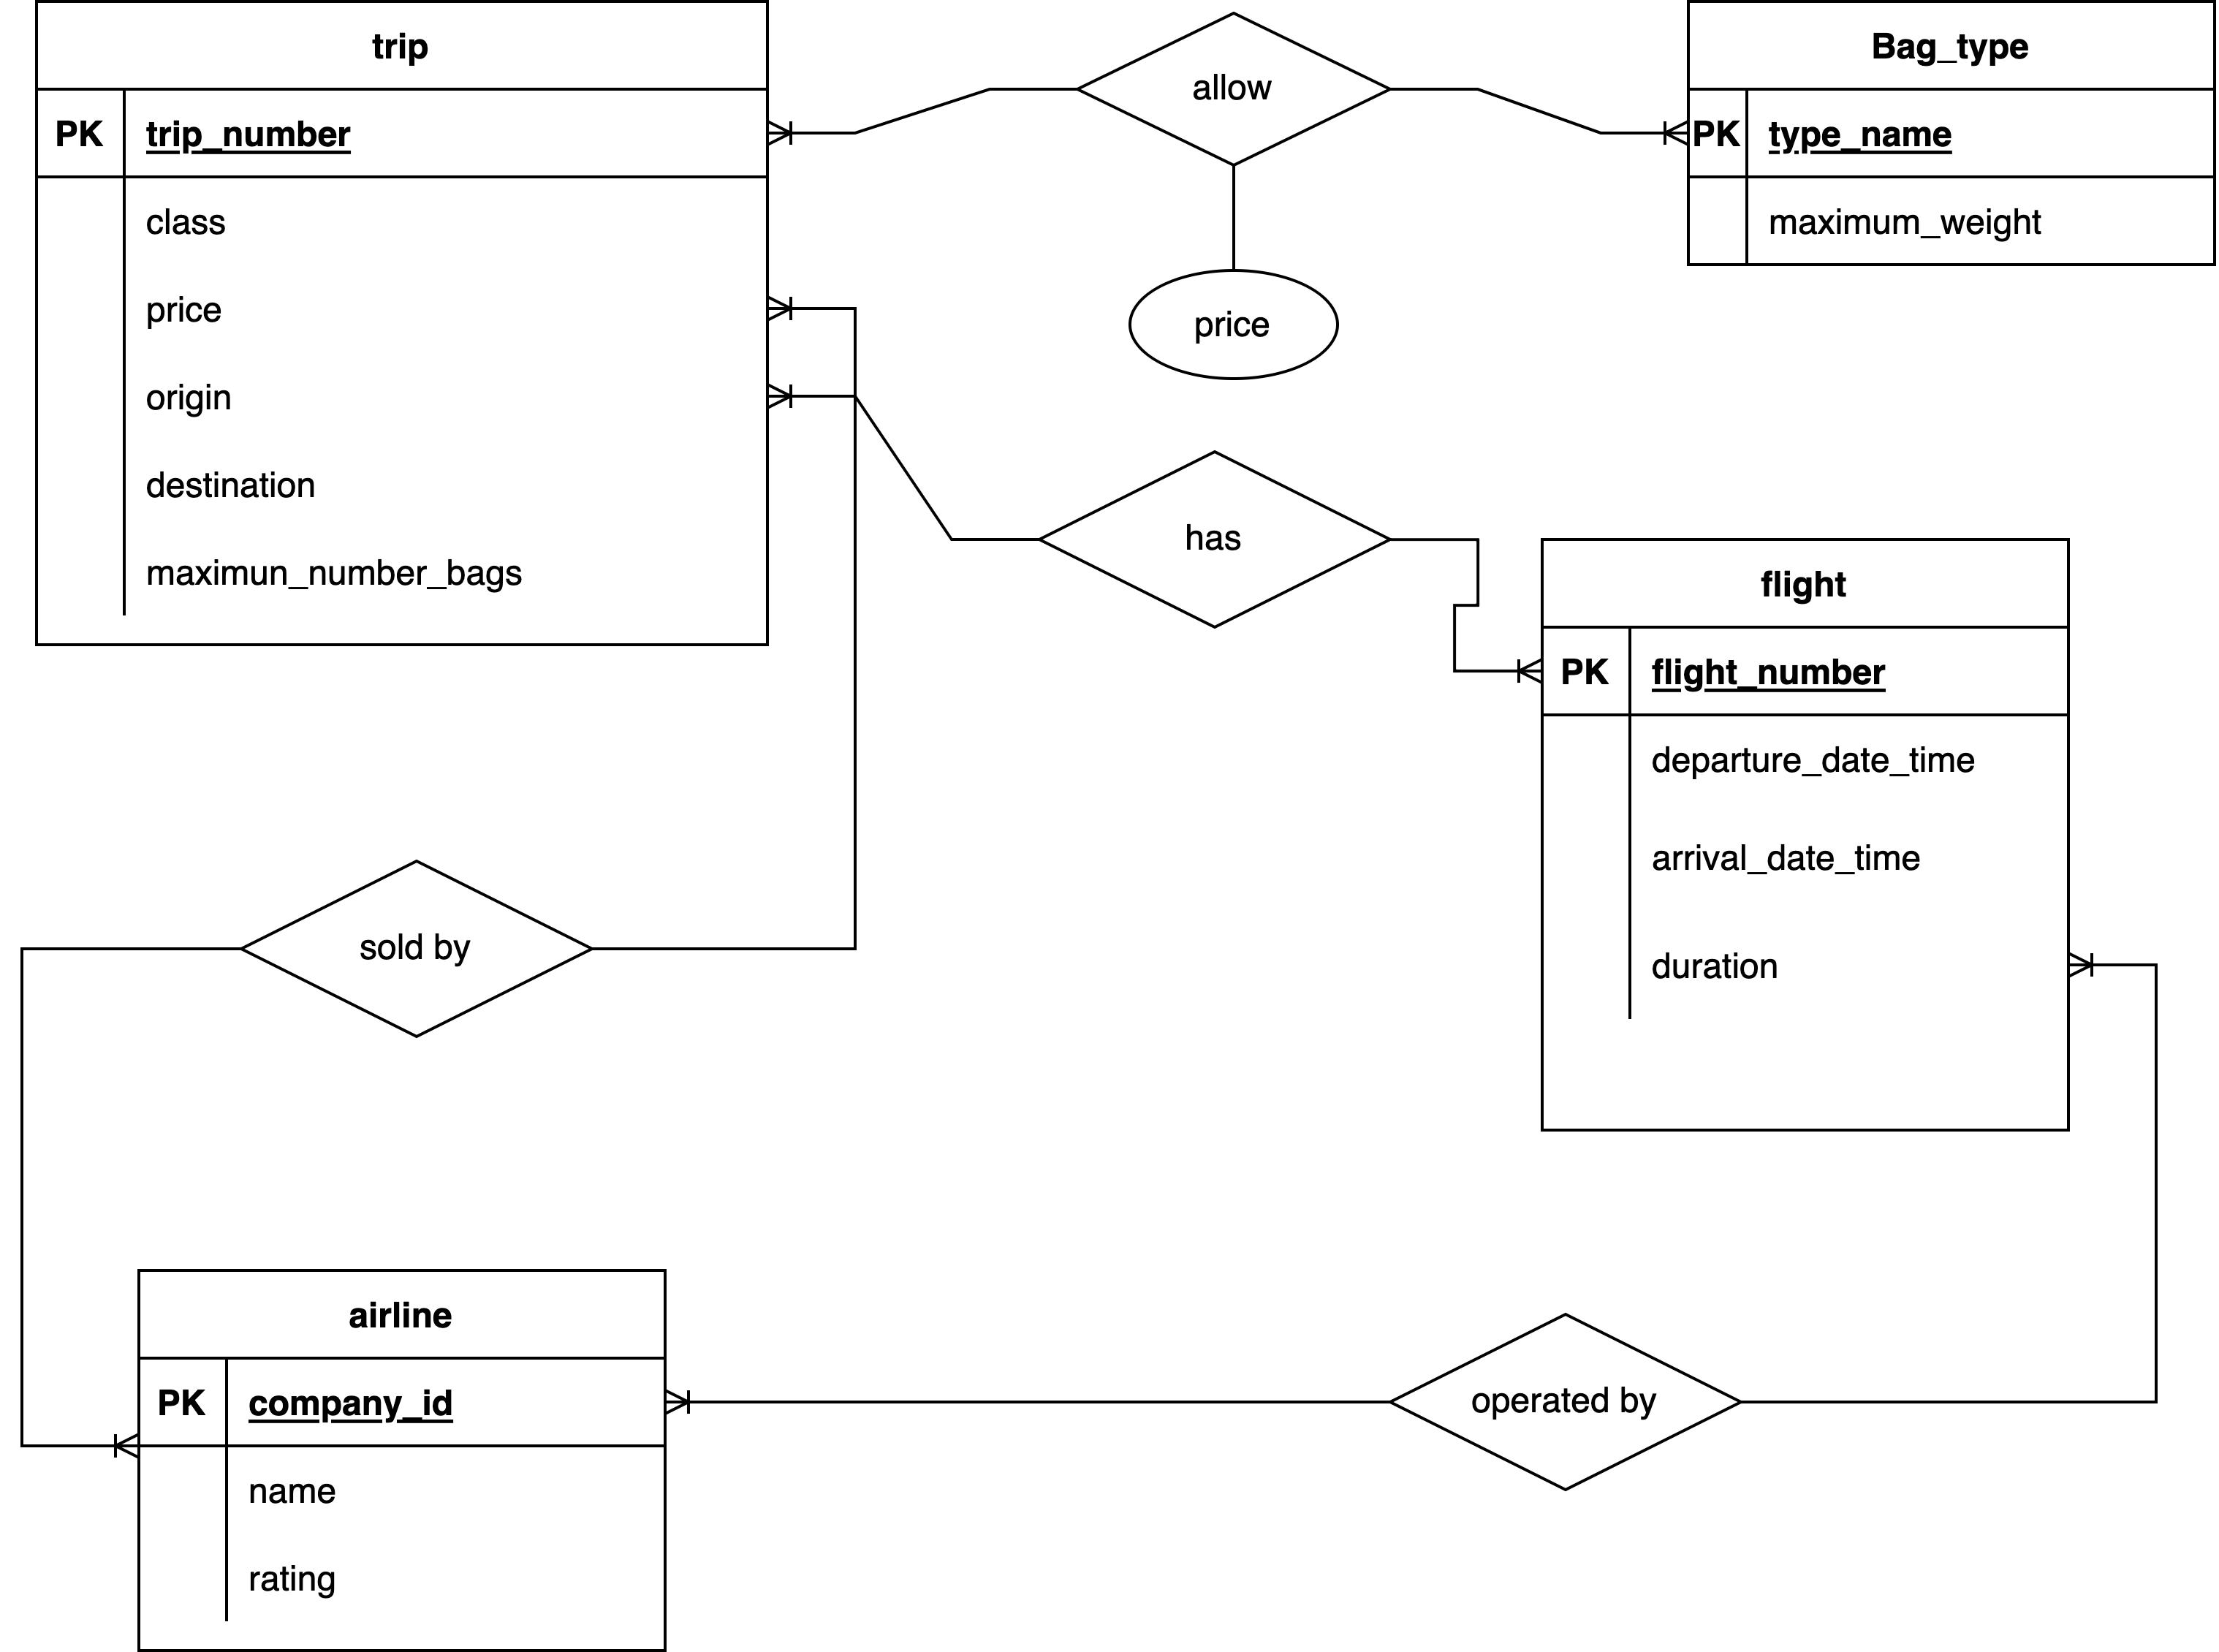attribute: (1129, 271, 1336, 380)
entity: (24, 0, 776, 647), (1535, 529, 2075, 1138), (130, 1265, 666, 1652), (1685, 0, 2219, 267)
relationship: (1036, 451, 1390, 628), (1395, 1314, 1740, 1492), (243, 868, 585, 1036), (1081, 9, 1391, 163)
